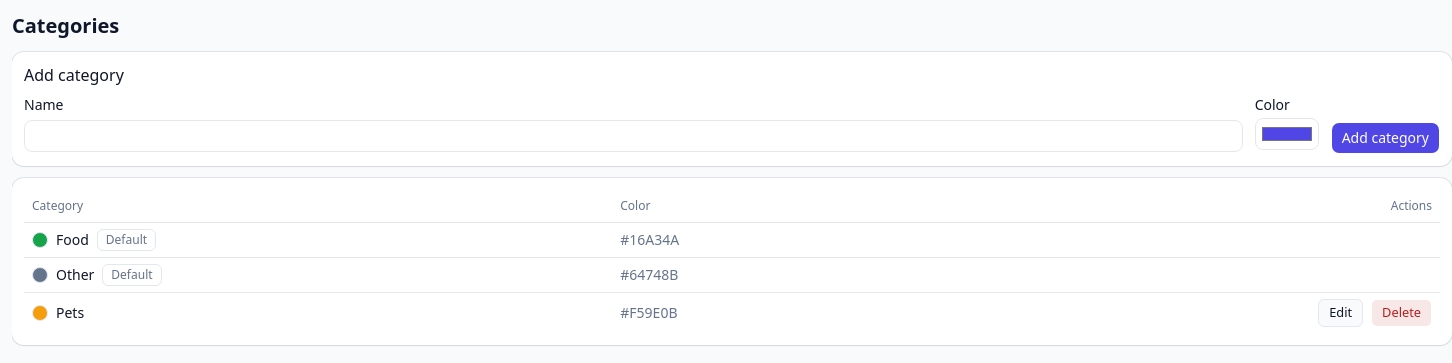
CategoriesPage › edits a custom category through PUT and updates the list
Check: the text "Pets" is shown, box [56, 302, 84, 322]
Click the button with aria-label "Edit Pets": (1341, 312) [1318, 298, 1363, 326]
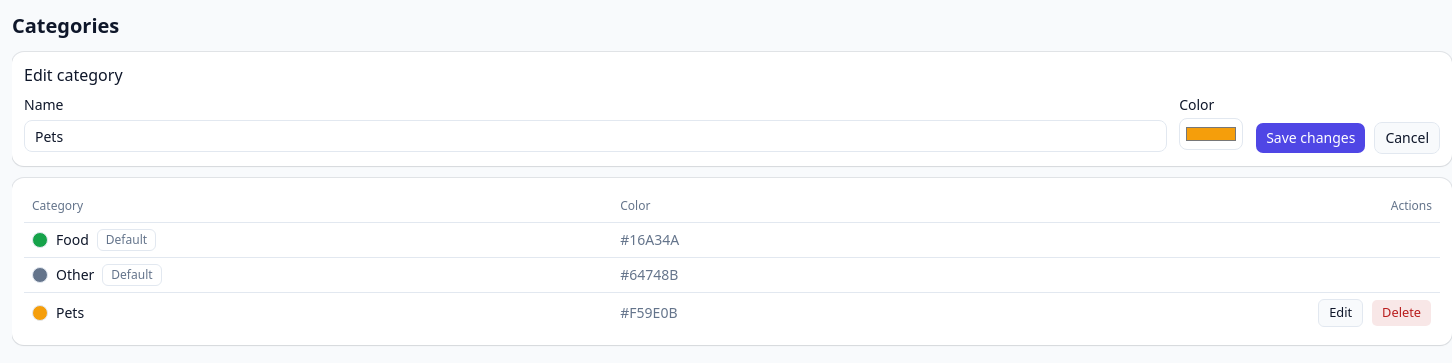
Check: the field labelled "Name" holds "Pets"
Replace the text in the field labelled "Name" with "Cats": (596, 136) [24, 120, 1167, 152]
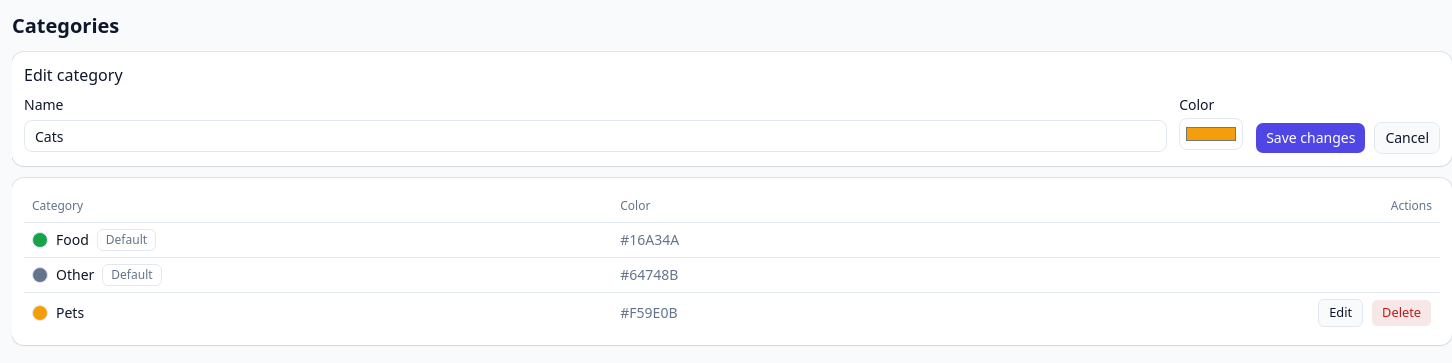
In the colour field labelled "Color": (1211, 134) [1179, 118, 1243, 150], type "#aa0000"
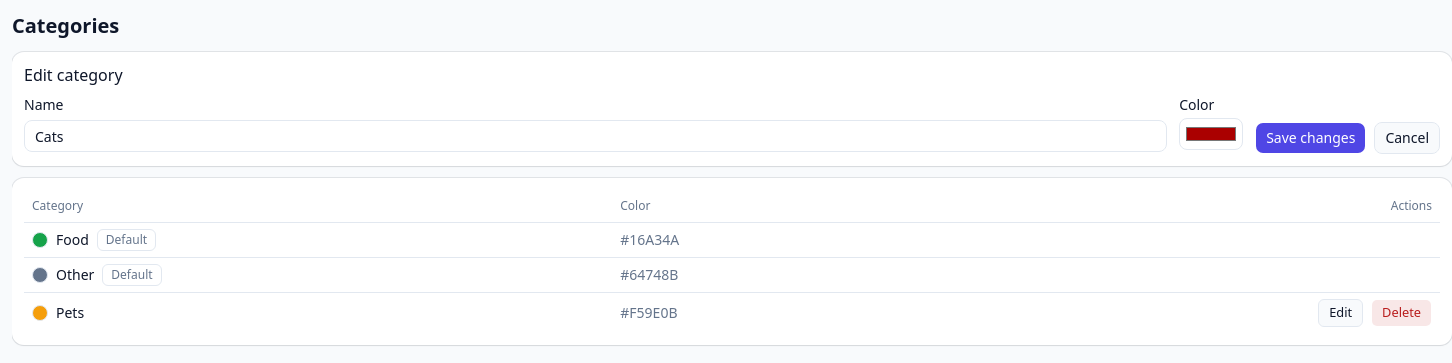
Click the button "Save changes": (1311, 138) [1255, 122, 1366, 154]
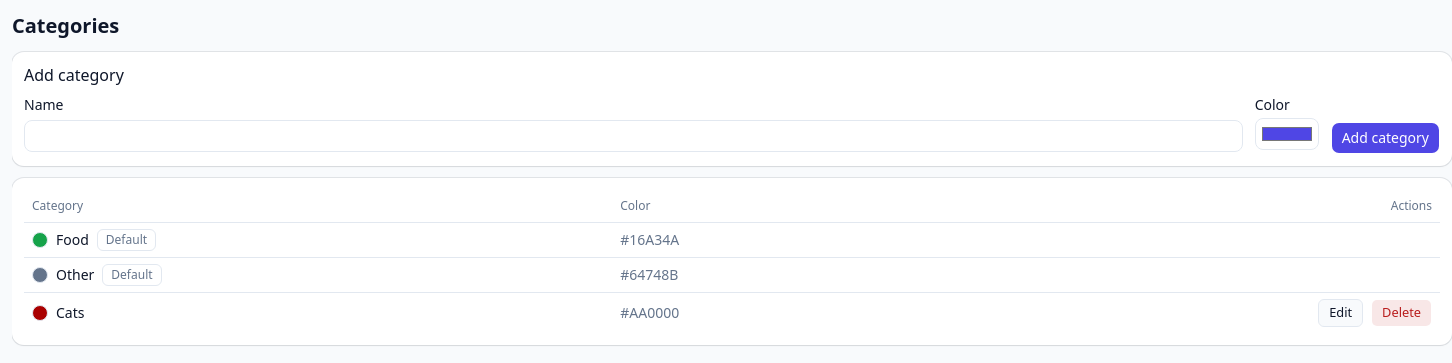
Check: the text "Cats" is shown, box [56, 302, 84, 322]
Check: the text "Pets" is gone
